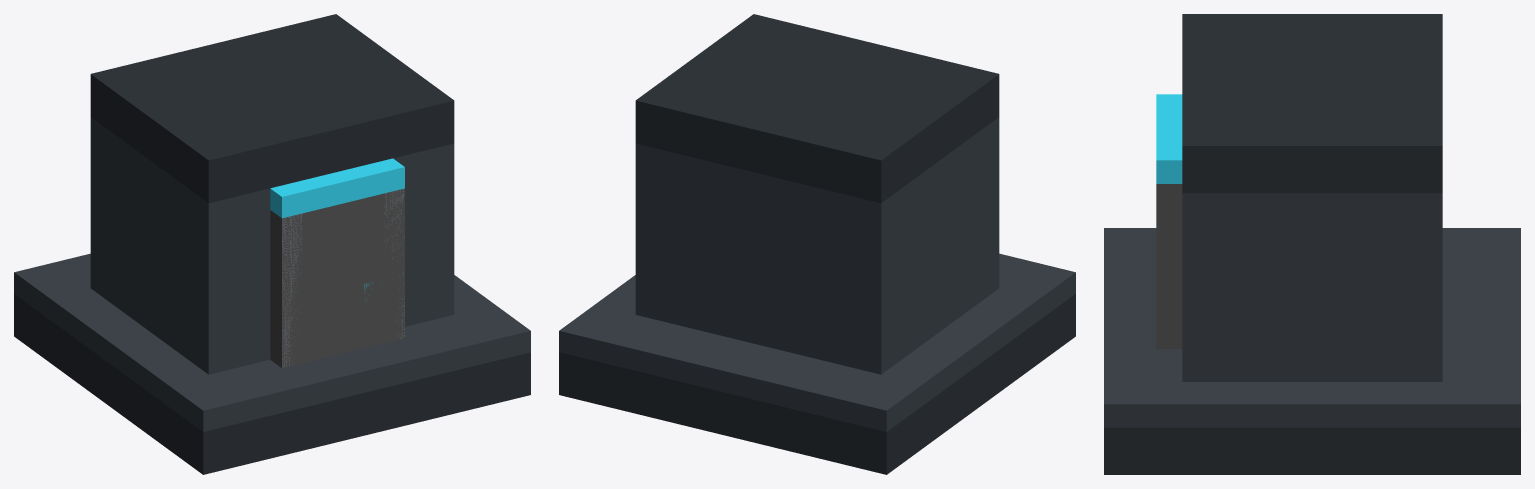
Rendered from tile_door.glb.
3 renders of one model, left to right at view 1: azimuth 30°, elevation 25°; view 2: azimuth 150°, elevation 25°; view 3: azimuth 270°, elevation 25°, orthographic. The views are drawn at different scales.
Visible parts, largest first — view 1: Lintel mesh, Frame mesh, Top mesh, Base mesh, Panel mesh, Strip mesh, Edge mesh; view 2: Frame mesh, Lintel mesh, Top mesh, Base mesh; view 3: Frame mesh, Lintel mesh, Top mesh, Base mesh, Panel mesh, Strip mesh.
Boxes of the visible parts, box(x1,y1,x2,y2) form: Lintel mesh: box(90, 14, 454, 202); Frame mesh: box(90, 117, 454, 374); Top mesh: box(14, 253, 530, 431); Base mesh: box(14, 294, 530, 474); Panel mesh: box(270, 188, 404, 368); Strip mesh: box(270, 158, 404, 218); Edge mesh: box(282, 189, 404, 366); Frame mesh: box(635, 117, 999, 374); Lintel mesh: box(635, 14, 999, 202); Top mesh: box(559, 253, 1075, 431); Base mesh: box(559, 294, 1075, 474); Frame mesh: box(1182, 193, 1442, 381); Lintel mesh: box(1182, 14, 1442, 193); Top mesh: box(1104, 228, 1520, 427); Base mesh: box(1104, 427, 1520, 474); Panel mesh: box(1156, 184, 1182, 348); Strip mesh: box(1156, 94, 1182, 183).
Bounding box in the file's own units: 16 × 13 × 16.
Materials: 1 (1 with a texture image).
